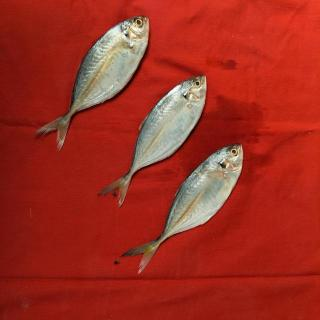Ikan: (120, 141, 246, 283), (34, 13, 157, 155), (94, 71, 210, 212)
